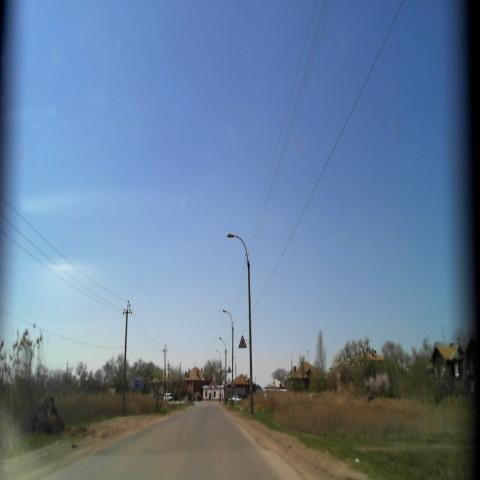2_3: (238, 334, 247, 348)
